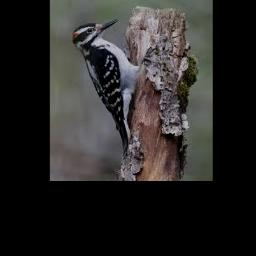Woodpecker: (73, 19, 141, 153)
